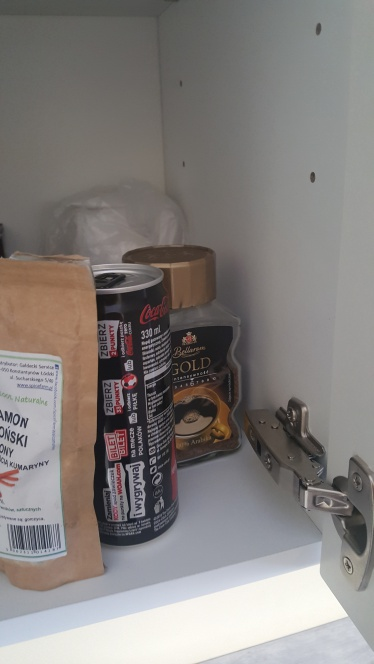colazero: (69, 260, 194, 548)
